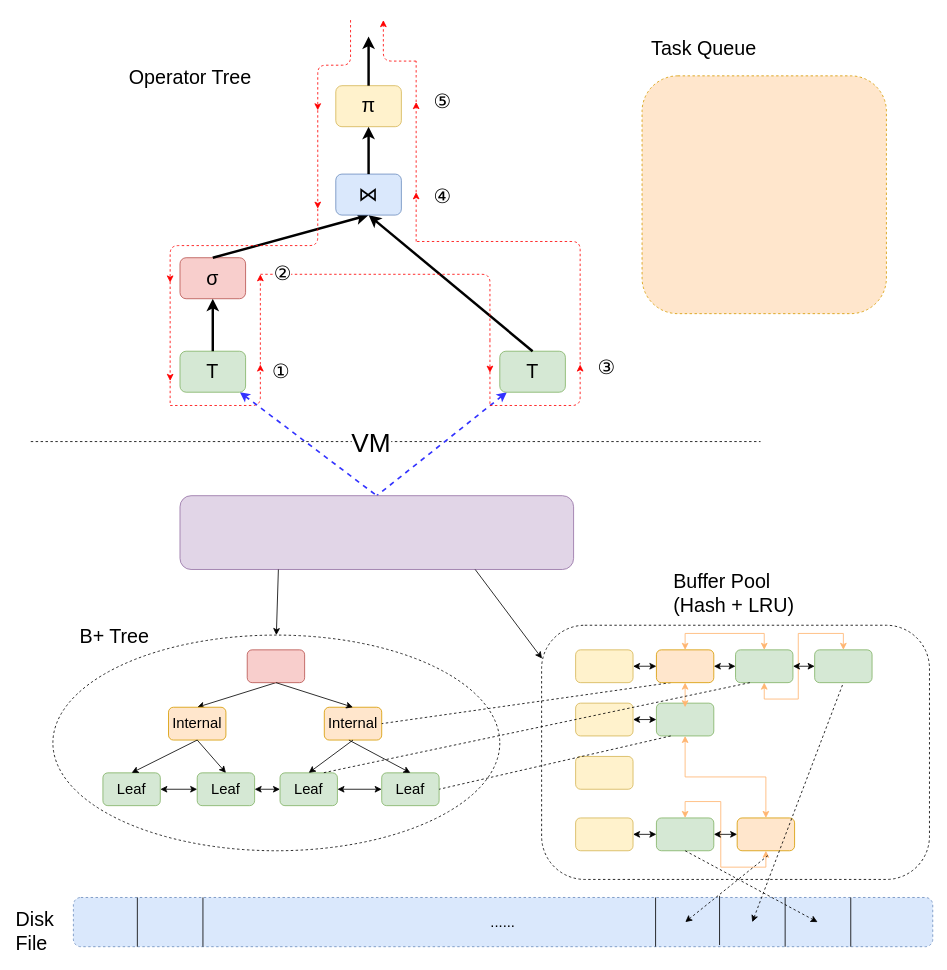
The diagram is 947 pixels wide and 970 high, and some of its shapes have lost their labels. Here are the shapes that lost their labels. From the top down, the centre of each, then its label:
At point 763,194: "① Scan Table 1 ② Sigma (filter) ③ Scan Table 2 ④ Join ⑤ Projection".
At point 376,532: "Storage Engine".
At point 275,666: "Root".
